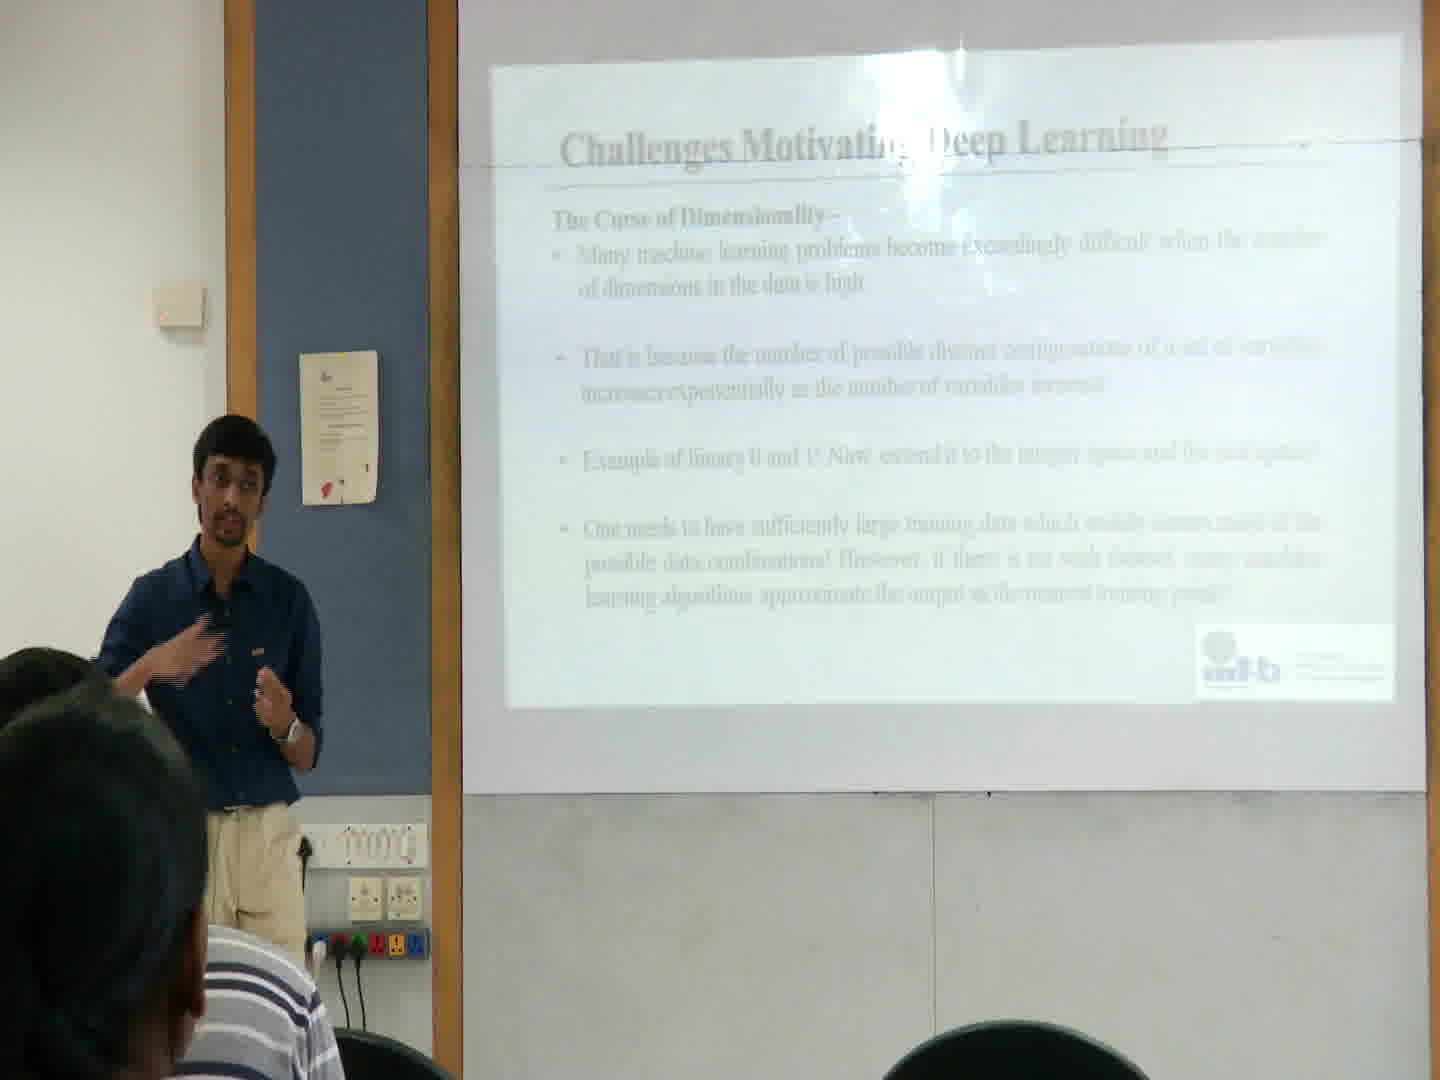slide: (489, 36, 1400, 710)
